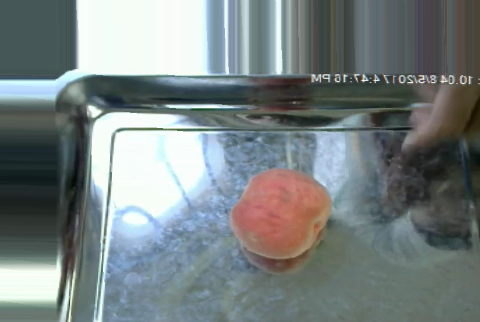Peach: (231, 168, 329, 260)
